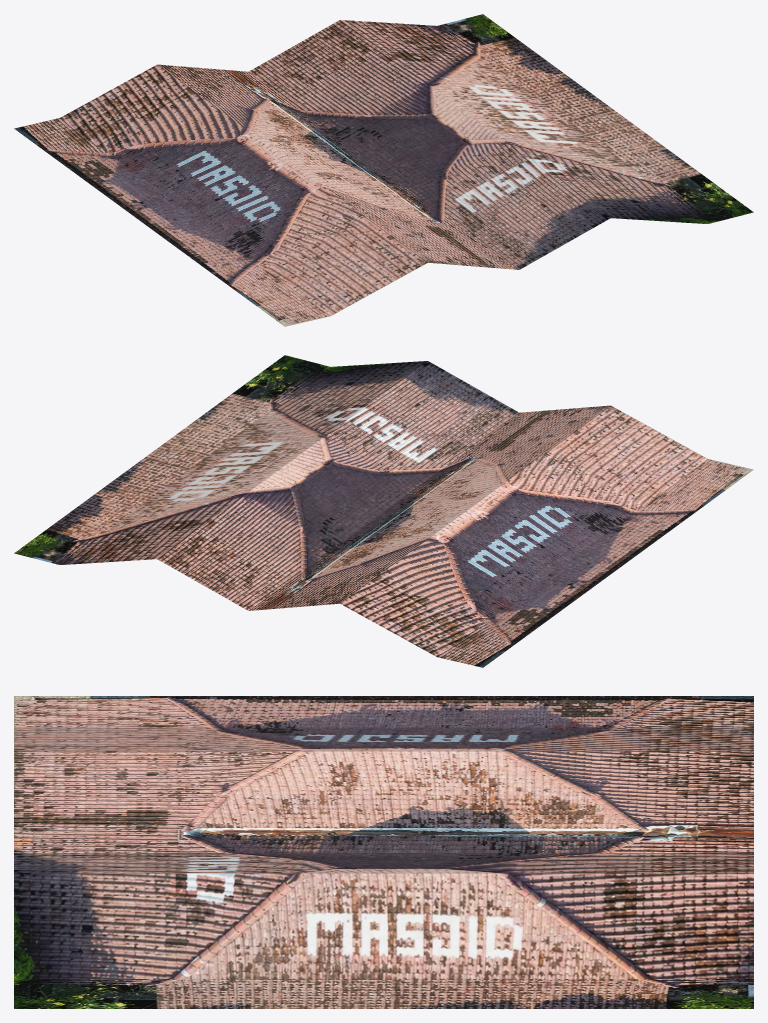
3 renders of one model, top to bottom at view 1: azimuth 30°, elevation 25°; view 2: azimuth 150°, elevation 25°; view 3: azimuth 270°, elevation 25°, orthographic. The views are drawn at different scales.
Parts seen in each view (by area): view 1: Plane.002; view 2: Plane.002; view 3: Plane.002.
Part boxes in pixels (box(x1,y1,x2,y2)): Plane.002: box(14, 14, 753, 326); Plane.002: box(14, 355, 753, 667); Plane.002: box(14, 696, 753, 1008).
Bounding box in the file's own units: 3.97 × 0.2399 × 3.97.
1 material, 1 textured.
